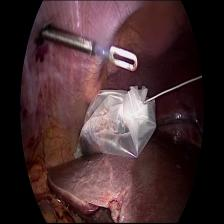Bipolar: (90, 38, 141, 74)
Specimen Bag: (68, 84, 159, 164)
